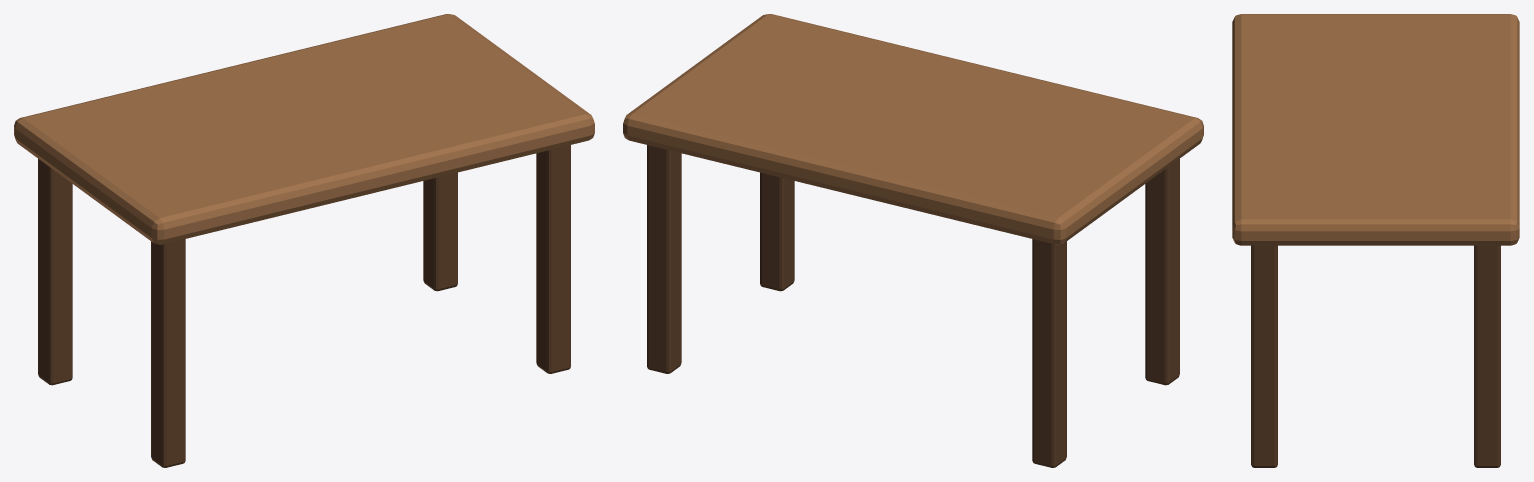
The model's file is table_wooden.glb.
3 views of the same model, side by side, from view 1: azimuth 30°, elevation 25°; view 2: azimuth 150°, elevation 25°; view 3: azimuth 270°, elevation 25° (orthographic).
Visible parts, largest first — view 1: table_wooden; view 2: table_wooden; view 3: table_wooden.
Boxes of the visible parts, x1=… form: table_wooden: x1=14, y1=14, x2=594, y2=467; table_wooden: x1=623, y1=14, x2=1203, y2=467; table_wooden: x1=1232, y1=14, x2=1519, y2=467.
Size of the model in its own units: 1.4 by 0.78 by 0.8.
